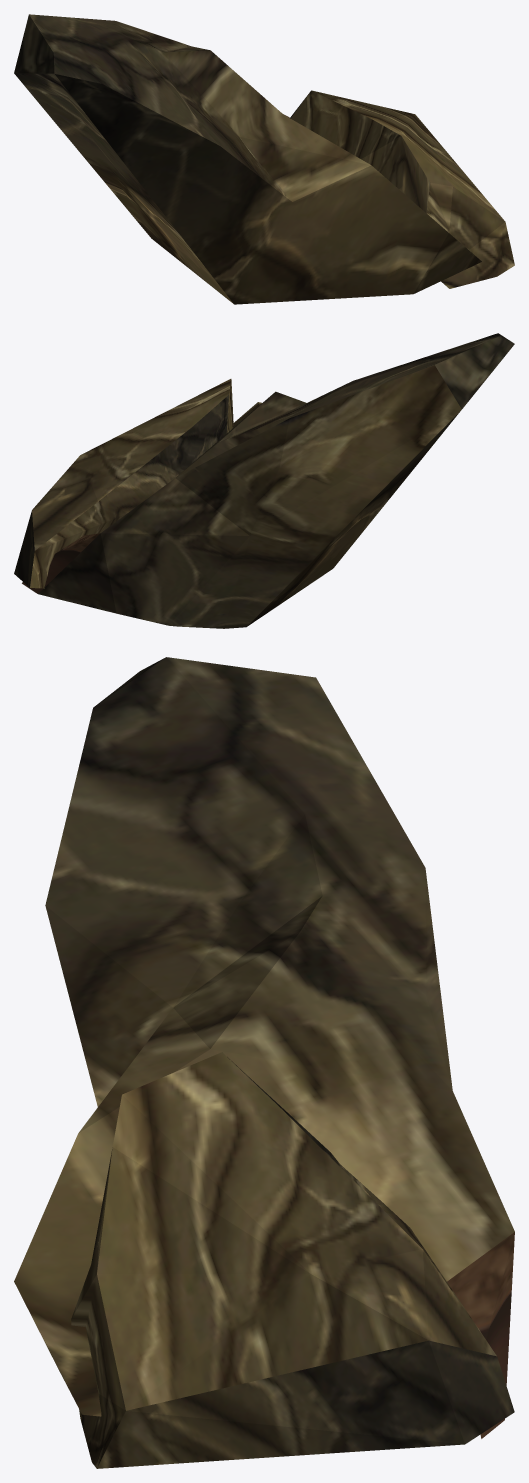
File: D_shitou002.fbx
The picture shows the model from 3 angles, top to bottom: view 1: azimuth 30°, elevation 25°; view 2: azimuth 150°, elevation 25°; view 3: azimuth 270°, elevation 25°; orthographic projection. The views are drawn at different scales.
Visible parts, largest first — view 1: D_shitou002; view 2: D_shitou002; view 3: D_shitou002.
Part boxes in pixels (left/top/right/bottom): D_shitou002: left=14, top=14, right=514, bottom=304; D_shitou002: left=14, top=333, right=514, bottom=628; D_shitou002: left=14, top=657, right=514, bottom=1468.
Bounding box in the file's own units: 437 × 289 × 271.
